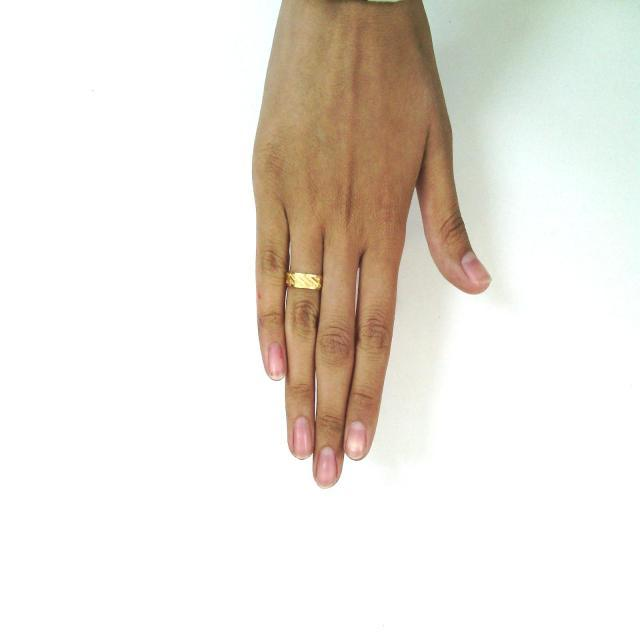Fingernail: (461, 251, 492, 283), (317, 447, 337, 489), (293, 417, 312, 458), (347, 421, 366, 458), (268, 343, 283, 379)
